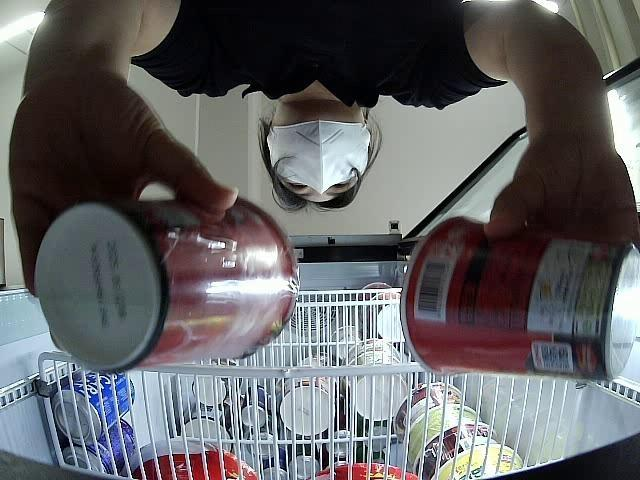02_shinRamen_S: (36, 194, 300, 371), (399, 214, 640, 386)
